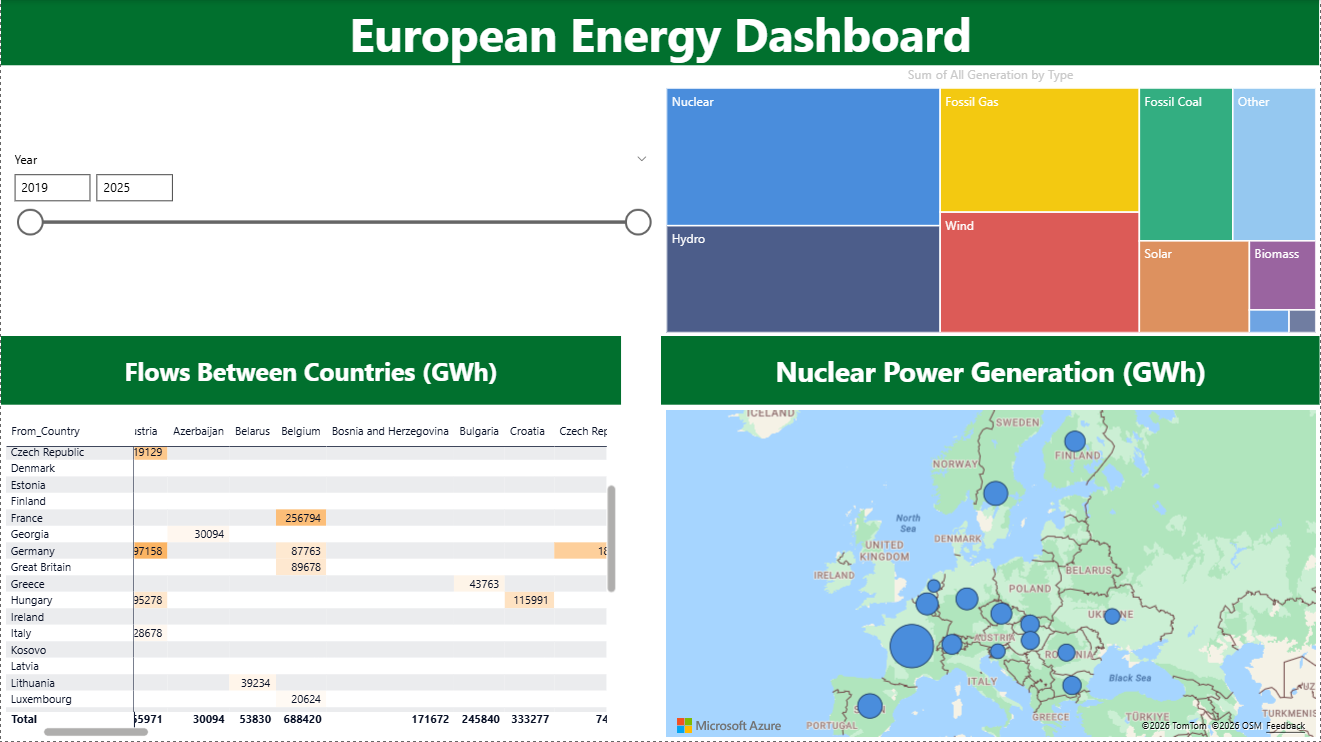

The dashboard page shown, as its layout file describes it:
{"tool":"powerbi","page":{"name":"Energy Dashboard","canvas":[1280,720],"ordinal":0},"visuals":[{"type":"shape","box":[640,326.7,640,66.7],"z":0},{"type":"qnaVisual","box":[0,63.3,601.7,263.3],"z":1000},{"type":"shape","box":[0,0,1280,63.3],"z":2000},{"type":"shape","box":[0,326.7,601.7,66.7],"z":3000},{"type":"azureMap","fields":{"Category":["Generation_Capacity.Country"],"Size":["Sum(Generation_Capacity.Generation_GWh)"]},"box":[640,393.3,640,326.7],"z":4000},{"type":"pivotTable","fields":{"Rows":["Cross_Border_Flows.From_Country"],"Columns":["Cross_Border_Flows.To_Country"],"Values":["Sum(Cross_Border_Flows.Flow_GWh)"]},"box":[0,405,601.7,315],"z":5000},{"type":"treemap","title":"Sum of All Generation by Type","fields":{"Values":["Sum(Generation_Capacity.Generation_GWh)"],"Group":["Generation_Capacity.Energy_Type"]},"box":[640,63.3,640,263.3],"z":6000}]}

Visuals, with their boxes in screenshot pixels (x1, y1, x2, y2), scaled from the page's 1280x720 canvas onto the 1321x742 screenshot:
shape: bbox=(660, 337, 1320, 405)
qnaVisual: bbox=(0, 65, 621, 337)
shape: bbox=(0, 0, 1320, 65)
shape: bbox=(0, 337, 621, 405)
azureMap - Generation_Capacity.Country x Sum(Generation_Capacity.Generation_GWh): bbox=(660, 405, 1320, 741)
pivotTable - Cross_Border_Flows.From_Country x Cross_Border_Flows.To_Country: bbox=(0, 417, 621, 741)
"Sum of All Generation by Type" treemap: bbox=(660, 65, 1320, 337)
